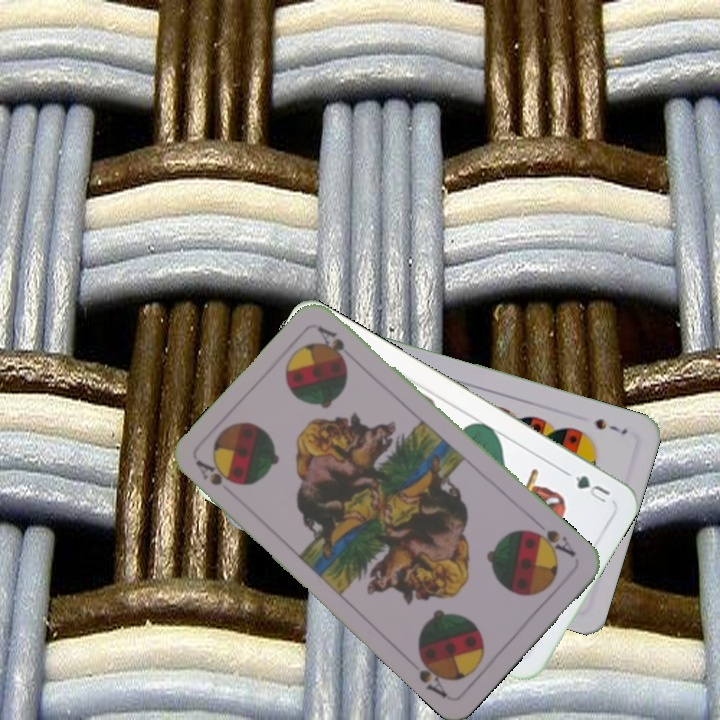GU: (571, 471, 613, 506)
S7: (591, 414, 630, 437)
SA: (525, 525, 578, 560), (191, 455, 239, 488)
